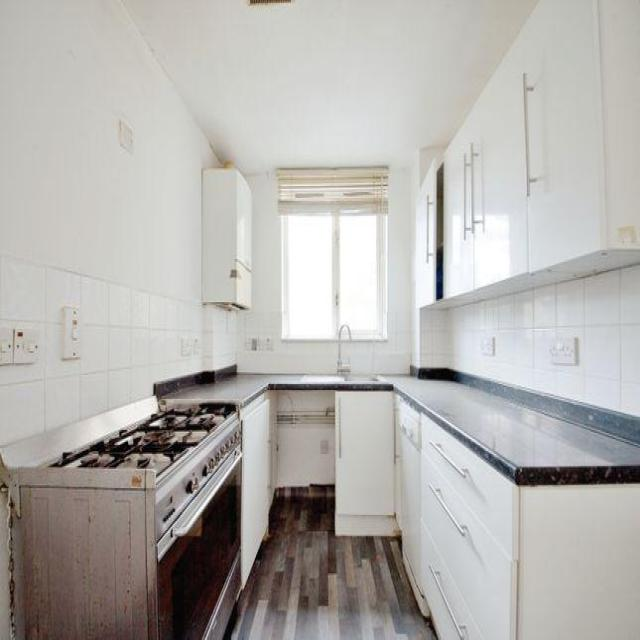Wall: (125, 0, 536, 173), (0, 3, 217, 301), (0, 257, 202, 443), (227, 487, 434, 639), (419, 264, 640, 382), (239, 171, 336, 373), (450, 326, 624, 409), (350, 167, 414, 374), (201, 306, 237, 368)
